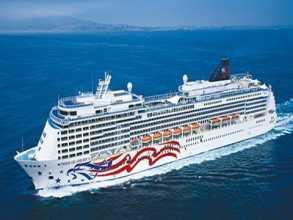youlun: (8, 52, 278, 193)
